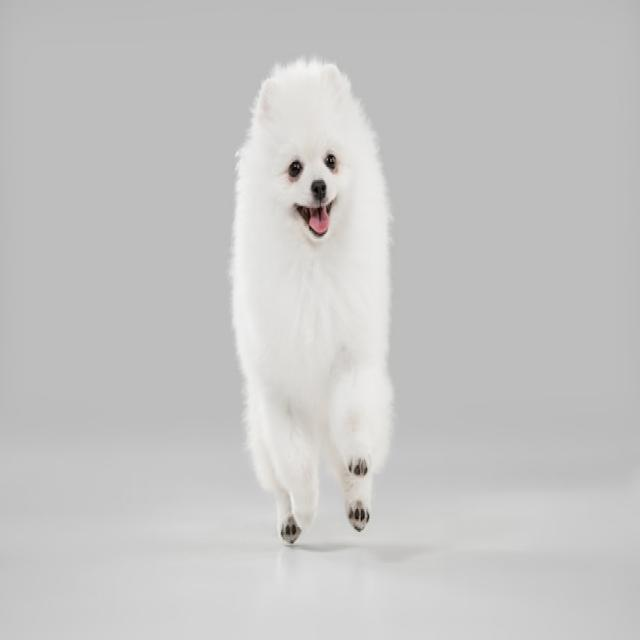Dog: (230, 56, 394, 544)
